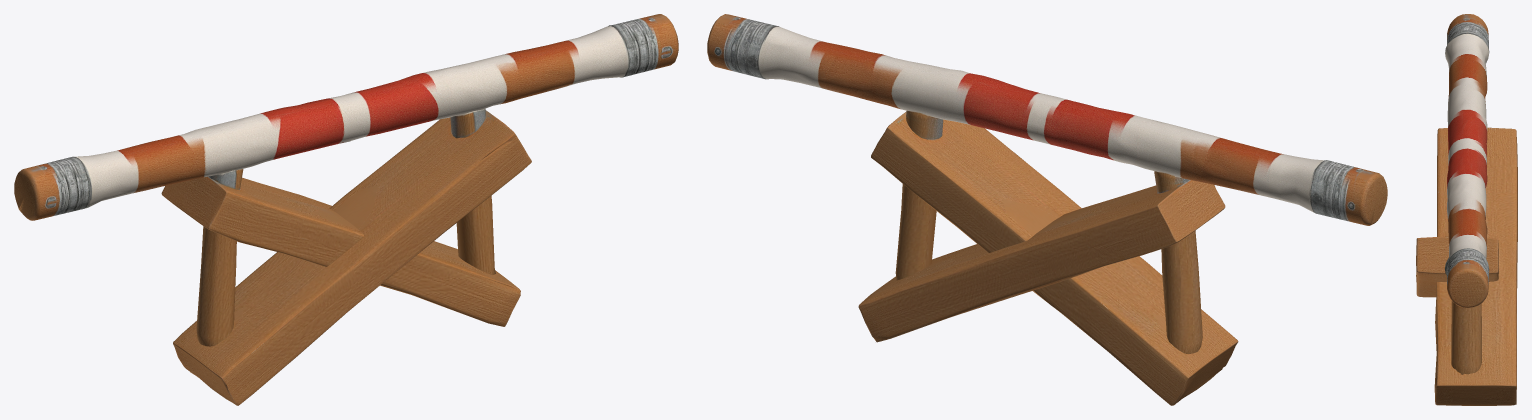
The model's file is cavaletti.glb.
The picture shows the model from 3 angles, left to right: view 1: azimuth 30°, elevation 25°; view 2: azimuth 150°, elevation 25°; view 3: azimuth 270°, elevation 25°; orthographic projection. The views are drawn at different scales.
Parts seen in each view (by area): view 1: cavaletti; view 2: cavaletti; view 3: cavaletti.
Part boxes in pixels (left/top/right/bottom): cavaletti: left=14, top=14, right=678, bottom=405; cavaletti: left=707, top=14, right=1387, bottom=405; cavaletti: left=1416, top=14, right=1517, bottom=405.
Bounding box in the file's own units: 1.04 × 0.4 × 0.1735.
1 material, 1 textured.
